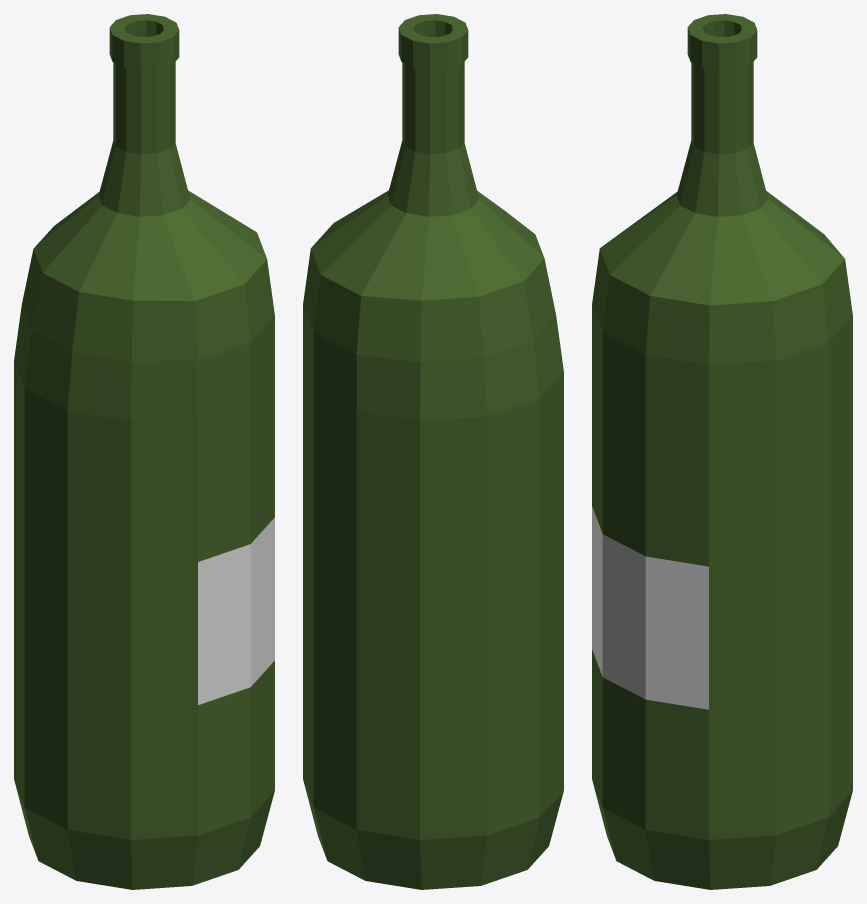
Rendered from bottle1.glb.
3 views of the same model, side by side, from view 1: azimuth 30°, elevation 25°; view 2: azimuth 150°, elevation 25°; view 3: azimuth 270°, elevation 25° (orthographic).
Parts seen in each view (by area): view 1: bottle1; view 2: bottle1; view 3: bottle1.
Boxes of the visible parts, <box> form: bottle1: <box>14,14,274,889</box>; bottle1: <box>303,14,563,889</box>; bottle1: <box>592,14,852,889</box>.
Bounding box in the file's own units: 0.1451 × 0.4986 × 0.1451.
